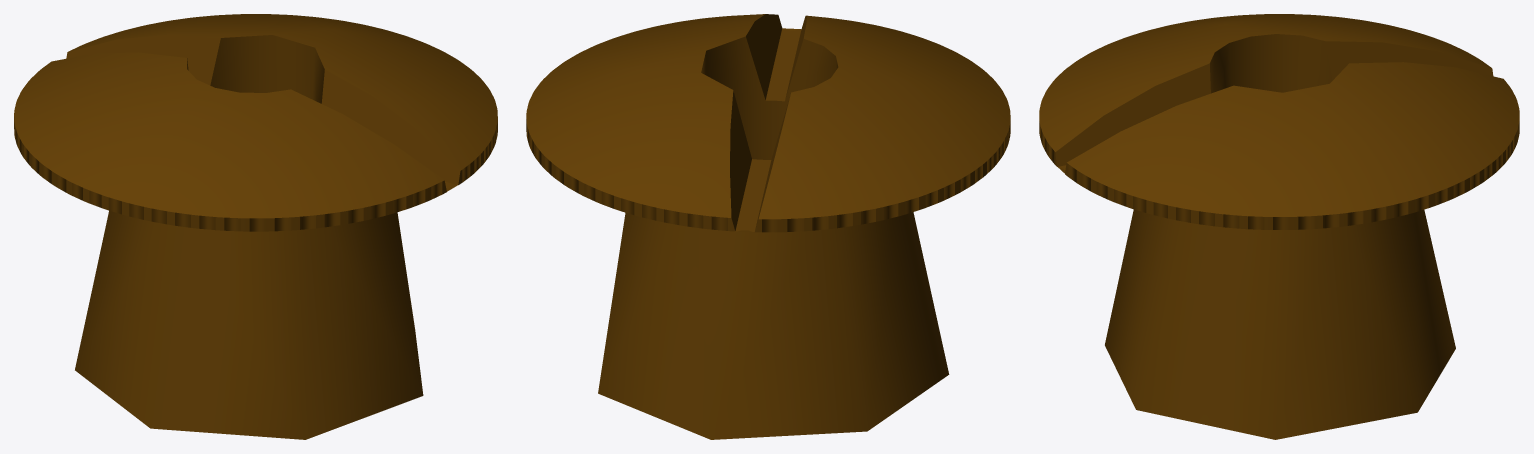
Rendered from Vis Champignon_Marteaux_instance_2.obj.
3 views of the same model, side by side, from view 1: azimuth 30°, elevation 25°; view 2: azimuth 150°, elevation 25°; view 3: azimuth 270°, elevation 25° (orthographic).
Visible parts, largest first — view 1: Face_62, Face_1, Face_65, Face_66, Face_128, Face_131; view 2: Face_62, Face_1, Face_65, Face_66, Face_131, Face_128, Face_132, Face_127; view 3: Face_62, Face_65, Face_1, Face_66, Face_129, Face_130.
Boxes of the visible parts, x1,y1,x2,y2 form: Face_62: (75,210,423,439); Face_1: (14,52,444,218); Face_65: (68,14,497,170); Face_66: (187,35,324,103); Face_128: (321,69,460,185); Face_131: (66,34,220,85); Face_62: (598,212,949,439); Face_1: (758,15,1010,219); Face_65: (526,14,765,217); Face_66: (701,36,838,159); Face_131: (730,91,751,230); Face_128: (746,14,782,99); Face_132: (735,159,771,231); Face_127: (765,28,801,101); Face_62: (1105,209,1455,439); Face_65: (1067,62,1519,216); Face_1: (1039,14,1491,151); Face_66: (1209,34,1332,93); Face_129: (1055,63,1210,166); Face_130: (1325,41,1493,80).
Size of the model in its own units: 0.01 by 0.0069 by 0.01.
